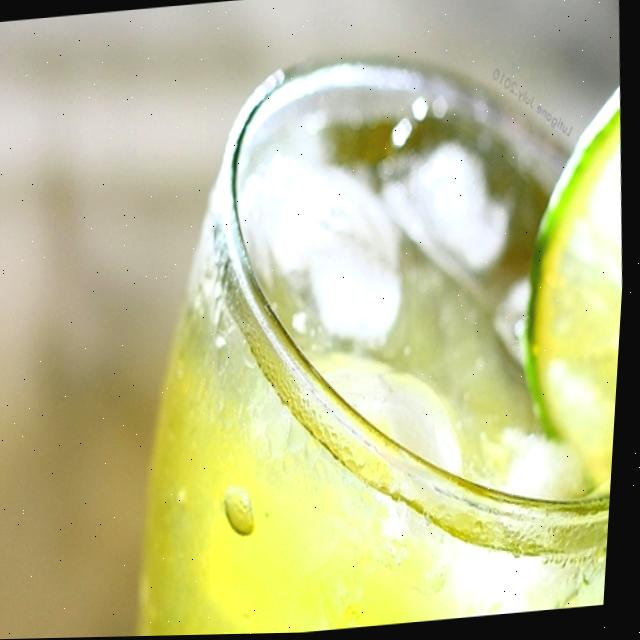蛋糕甜品: (210, 42, 638, 549)
